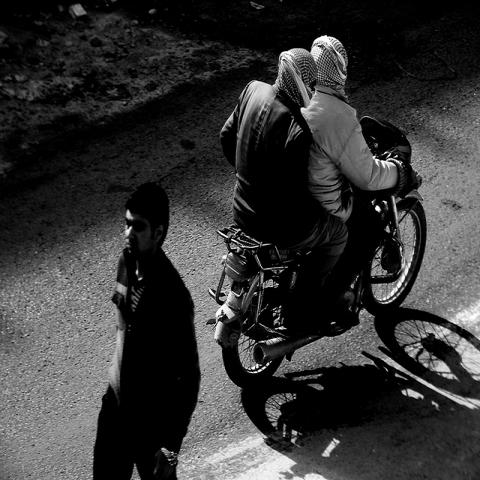motorcycle: (213, 123, 428, 390)
